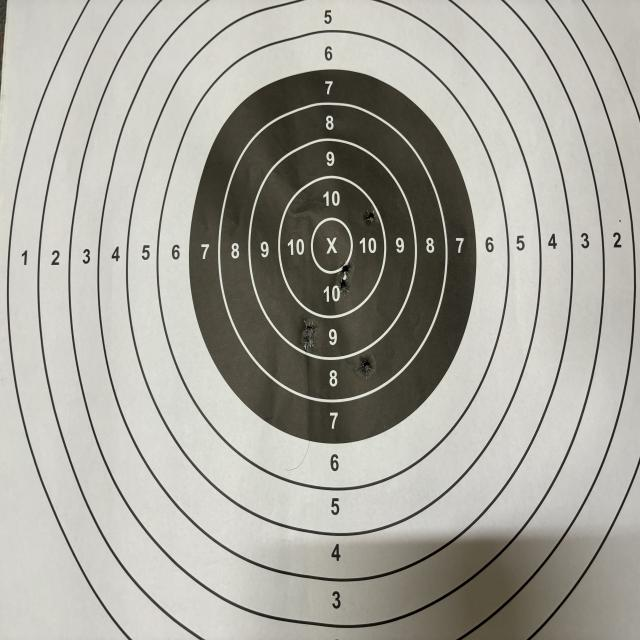bullet: (303, 333, 314, 352), (342, 262, 351, 280), (364, 212, 376, 224), (304, 320, 316, 332), (360, 360, 372, 372), (339, 279, 348, 292)
target: (0, 0, 640, 640)
